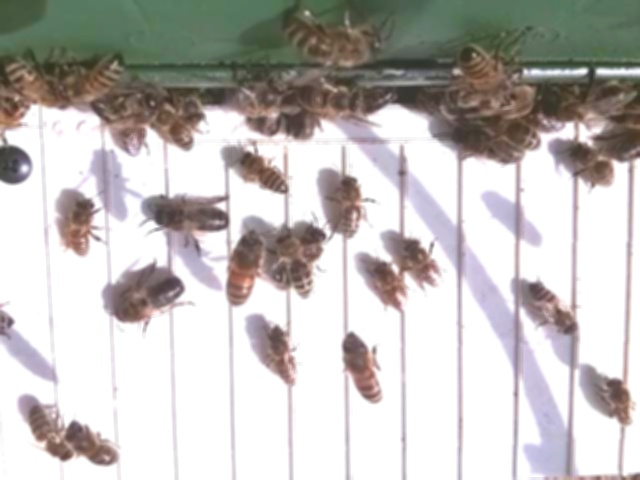Drone: (110, 272, 191, 328), (152, 196, 234, 241), (449, 126, 529, 172)
Worker: (223, 229, 269, 311), (340, 330, 387, 407), (526, 278, 582, 340), (25, 399, 76, 466), (66, 416, 122, 472), (274, 231, 315, 304), (237, 152, 294, 200), (402, 236, 447, 292), (571, 141, 618, 192), (64, 197, 98, 262), (370, 260, 410, 313), (270, 328, 302, 392), (337, 173, 365, 243), (605, 375, 638, 433)
